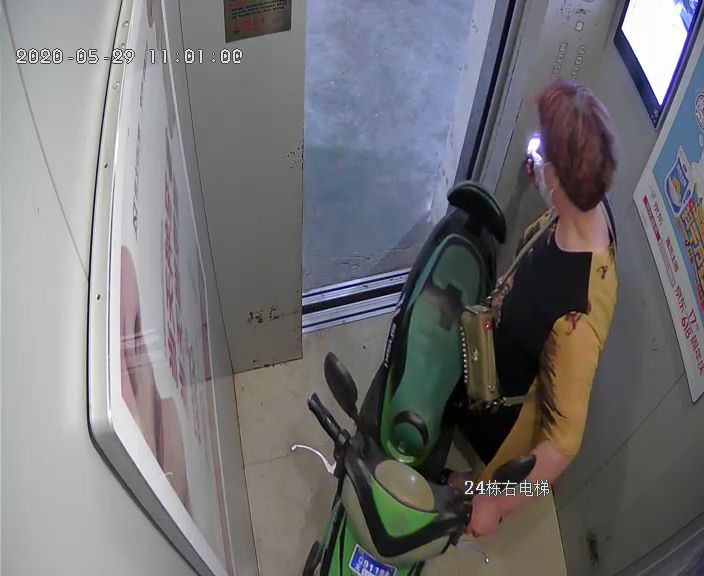Electric-bicycle: (289, 183, 539, 576)
